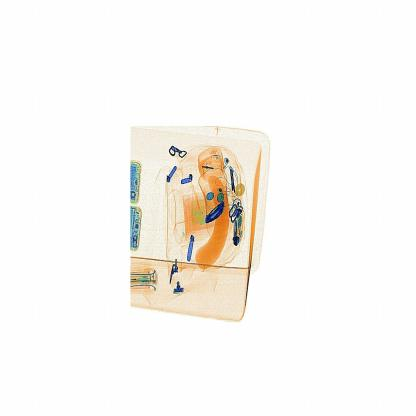knife: (196, 193, 234, 229)
